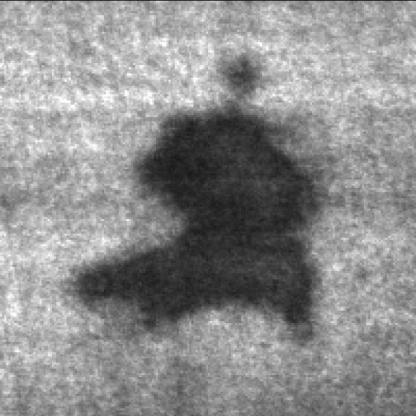patches: (75, 116, 310, 335)
